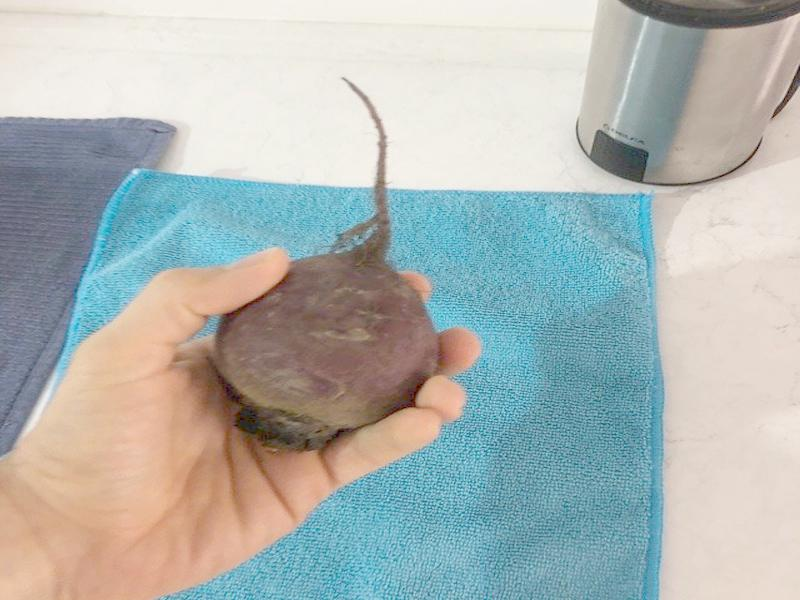Beet: (214, 78, 440, 452)
